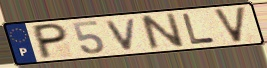5: (71, 19, 106, 56)
L: (181, 12, 218, 46)
N: (138, 11, 188, 52)
P: (33, 22, 69, 61)
V: (211, 5, 248, 45), (104, 17, 139, 52)
